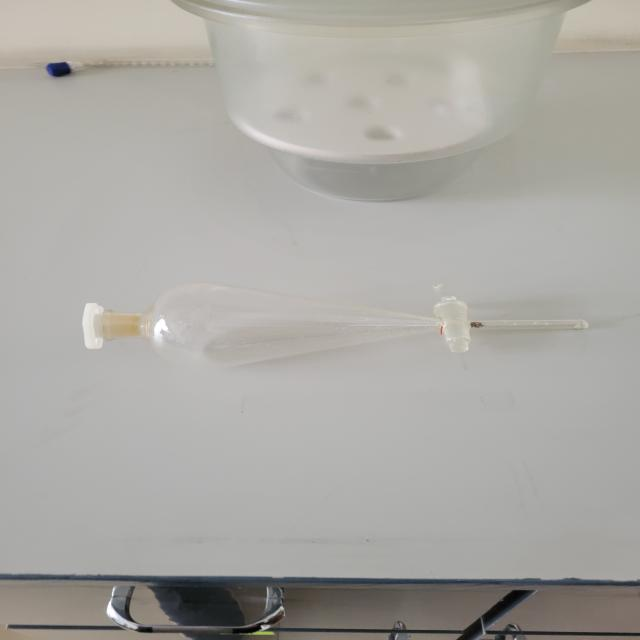Separating_Funnel: (60, 231, 609, 404)
